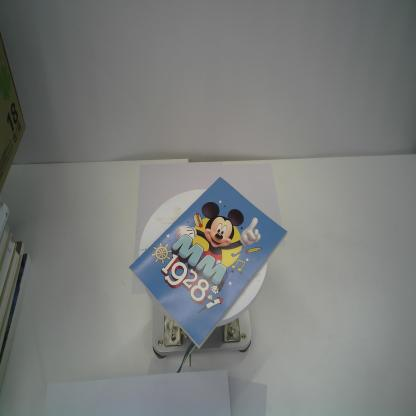Stationery: (127, 175, 288, 351)
